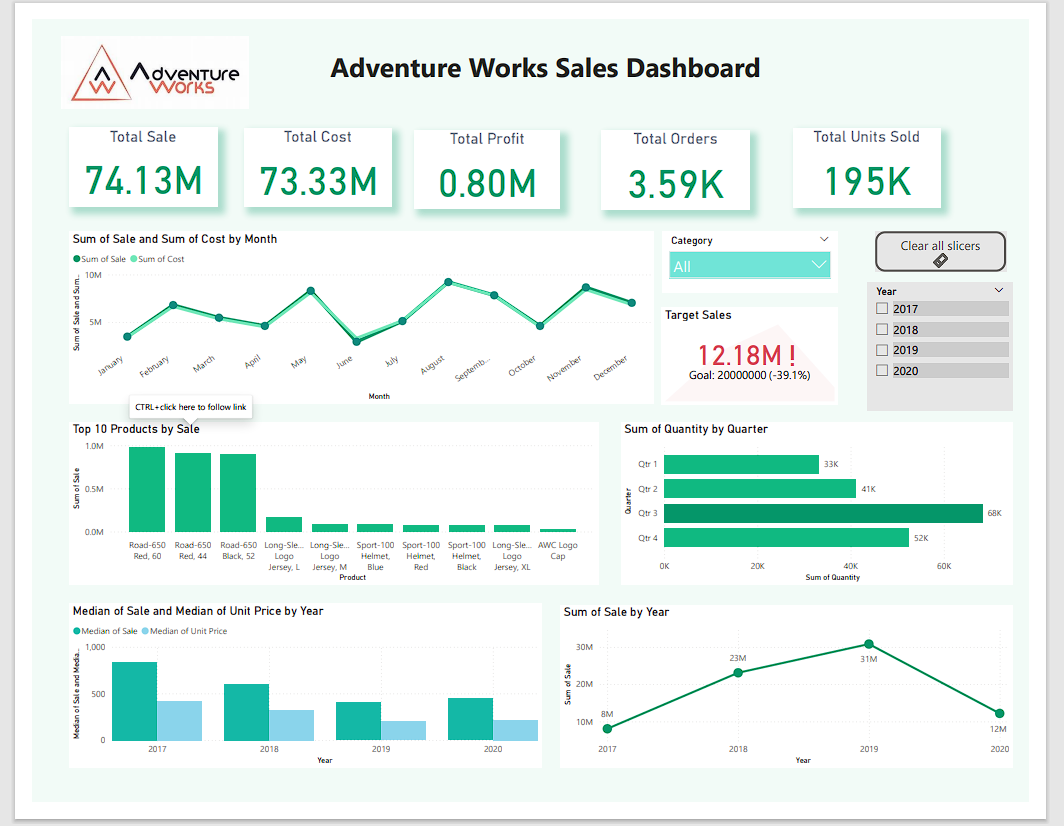

This screenshot's page, from the dashboard's own definition file:
{"tool":"powerbi","page":{"name":"Page 1","canvas":[1400,1100],"ordinal":0},"visuals":[{"type":"card","title":"Total Profit","fields":{"Values":["Sales.Profit"]},"box":[537.1,156.5,204.8,109.7],"z":0},{"type":"card","title":"Total Cost","fields":{"Values":["Sum(Sales.Cost)"]},"box":[298.4,153.2,206.5,109.7],"z":1000},{"type":"card","title":"Total Orders","fields":{"Values":["Count(Sales.OrderNumber)"]},"box":[800,156.5,208.1,111.3],"z":2000},{"type":"card","title":"Total Units Sold","fields":{"Values":["Sum(Sales.Quantity)"]},"box":[1069.4,153.2,206.5,111.3],"z":3000},{"type":"lineChart","fields":{"Category":["Sales.Order Date.Variation.Date Hierarchy.Month"],"Y":["Sum(Sales.Sale)","Sum(Sales.Cost)"]},"box":[52.3,297.7,820.5,243.2],"z":4000},{"type":"slicer","fields":{"Values":["Sales.Order Date.Variation.Date Hierarchy.Year"]},"box":[1172.6,369.4,204.8,180.6],"z":5000},{"type":"clusteredBarChart","fields":{"Category":["Sales.Order Date.Variation.Date Hierarchy.Quarter"],"Y":["Sum(Sales.Quantity)"]},"box":[827.4,566.1,550,229],"z":6000},{"type":"clusteredColumnChart","title":"Top 10 Products by Sale","fields":{"Category":["Sales.Product"],"Y":["Sum(Sales.Sale)"]},"box":[51.6,566.1,743.5,229],"z":7000},{"type":"kpi","title":"Target Sales","fields":{"Indicator":["Sum(Sales.Sale)"],"Goal":["Sales.Sale Target"],"TrendLine":["Sales.Order Date.Variation.Date Hierarchy.Year"]},"box":[883.9,404.8,248.4,137.1],"z":8000},{"type":"lineChart","fields":{"Category":["Sales.Order Date.Variation.Date Hierarchy.Year"],"Y":["Sum(Sales.Sale)"]},"box":[741.9,822.6,635.5,229],"z":9000},{"type":"clusteredColumnChart","fields":{"Category":["Sales.Order Date.Variation.Date Hierarchy.Year"],"Y":["Median(Sales.Sale)","Median(Sales.Unit Price)"]},"box":[51.6,821,662.9,230.6],"z":10000},{"type":"slicer","fields":{"Values":["Sales.Category"]},"box":[885.5,298.4,246.8,85.5],"z":11000},{"type":"actionButton","box":[1183.9,298.4,183.9,56.5],"z":12000},{"type":"image","box":[36.4,20.5,272.7,109.1],"z":12001},{"type":"textbox","box":[402.3,36.4,638.6,77.3],"z":12003},{"type":"card","title":"Total Sale","fields":{"Values":["Sum(Sales.Sale)"]},"box":[51.6,151.6,208.1,111.3],"z":12004}]}

Visuals, with their boxes in screenshot pixels (x1, y1, x2, y2), scaled from the page's 1400x1100 canvas onto the 1064x826 screenshot:
"Total Profit" card: left=408, top=118, right=564, bottom=200
"Total Cost" card: left=227, top=115, right=384, bottom=197
"Total Orders" card: left=608, top=118, right=766, bottom=201
"Total Units Sold" card: left=813, top=115, right=970, bottom=199
lineChart - Sales.Order Date.Variation.Date Hierarchy.Month x Sum(Sales.Sale): left=40, top=224, right=663, bottom=406
slicer - Sales.Order Date.Variation.Date Hierarchy.Year: left=891, top=277, right=1047, bottom=413
clusteredBarChart - Sales.Order Date.Variation.Date Hierarchy.Quarter x Sum(Sales.Quantity): left=629, top=425, right=1047, bottom=597
"Top 10 Products by Sale" clusteredColumnChart: left=39, top=425, right=604, bottom=597
"Target Sales" kpi: left=672, top=304, right=861, bottom=407
lineChart - Sales.Order Date.Variation.Date Hierarchy.Year x Sum(Sales.Sale): left=564, top=618, right=1047, bottom=790
clusteredColumnChart - Sales.Order Date.Variation.Date Hierarchy.Year x Median(Sales.Sale): left=39, top=616, right=543, bottom=790
slicer - Sales.Category: left=673, top=224, right=861, bottom=288
actionButton: left=900, top=224, right=1040, bottom=266
image: left=28, top=15, right=235, bottom=97
textbox: left=306, top=27, right=791, bottom=85
"Total Sale" card: left=39, top=114, right=197, bottom=197
